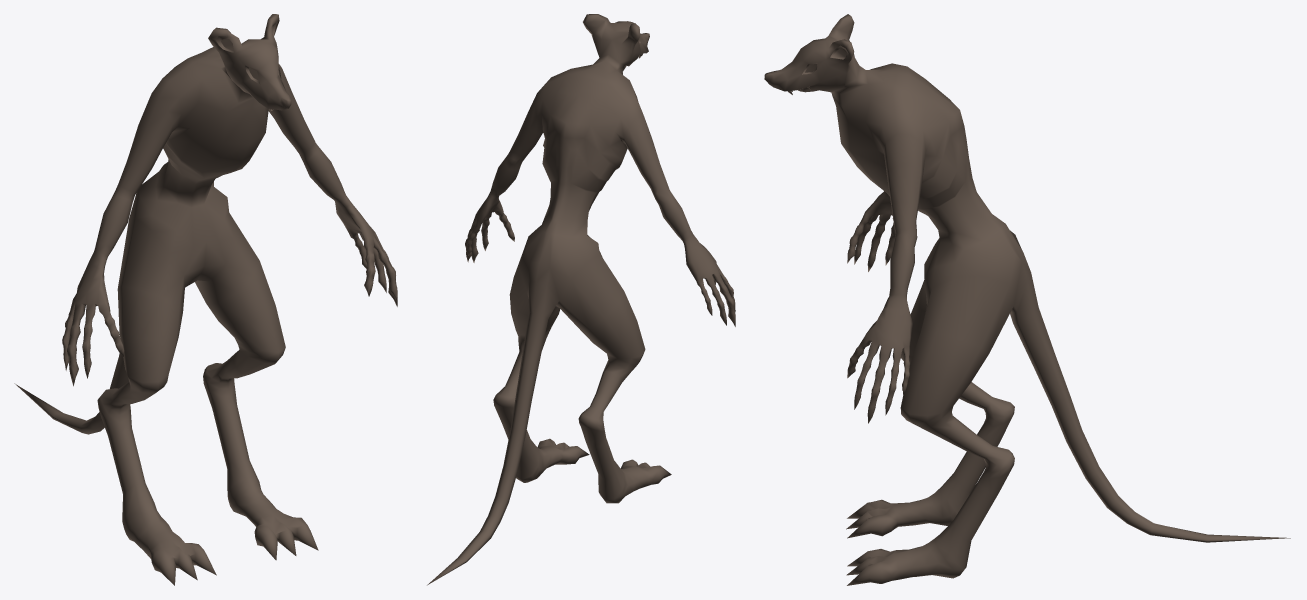
Rendered from merchantTEST (5).fbx.
The picture shows the model from 3 angles, left to right: view 1: azimuth 30°, elevation 25°; view 2: azimuth 150°, elevation 25°; view 3: azimuth 270°, elevation 25°; orthographic projection. The views are drawn at different scales.
Parts seen in each view (by area): view 1: frontooth1; view 2: frontooth1; view 3: frontooth1.
Boxes of the visible parts, <box> form: frontooth1: <box>14,14,397,585</box>; frontooth1: <box>427,14,735,585</box>; frontooth1: <box>764,14,1290,585</box>.
Bounding box in the file's own units: 7.52 × 11.99 × 10.95.
